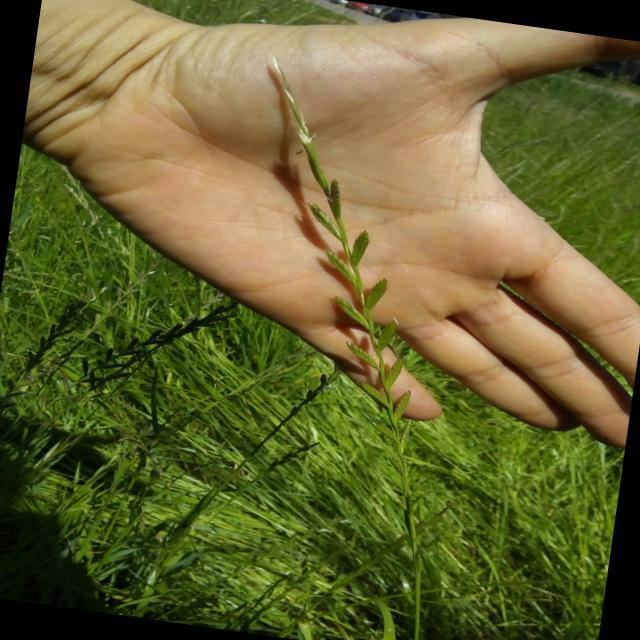Lolium: (0, 269, 637, 640), (205, 65, 490, 443)
